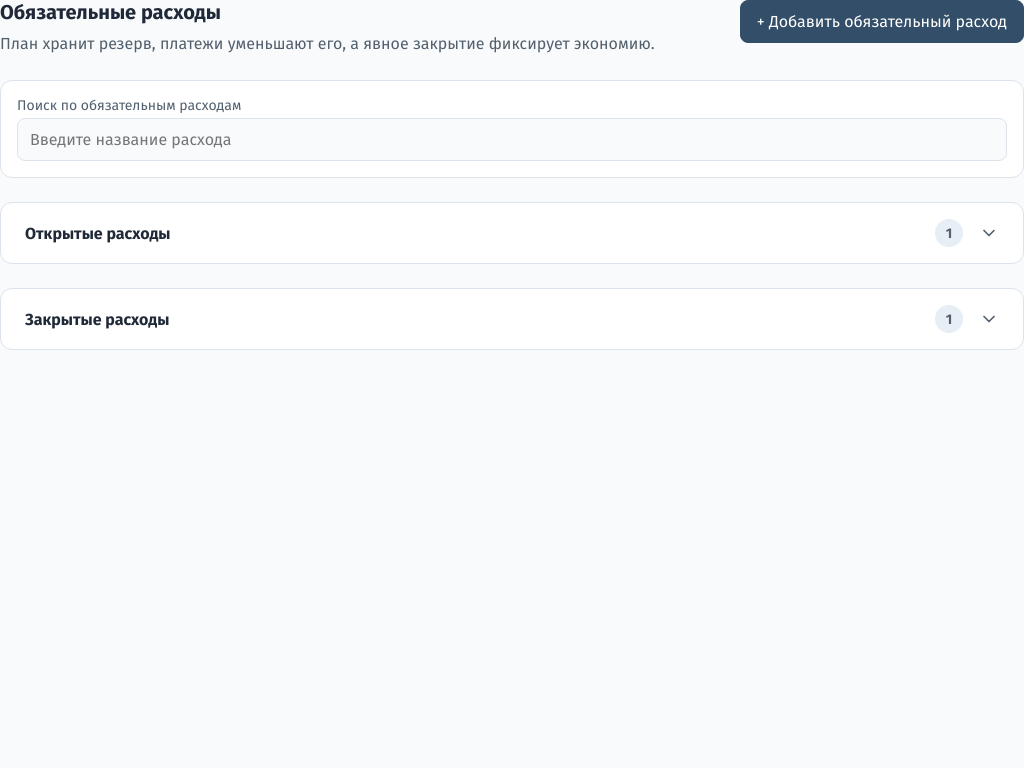
Scenario: ObligationsPage interface › separates closed expenses and opens creation in a modal
Expected: the number of elements with class "obligation-group" is 2, [0,202,1023,264]; [0,288,1023,350]
Expected: the icon with class "obligation-group__chevron" in the row of "Открытые расходы" is shown, [979,223,999,243]
Click the button "+ Добавить обязательный расход": (882, 22) [740,0,1023,43]
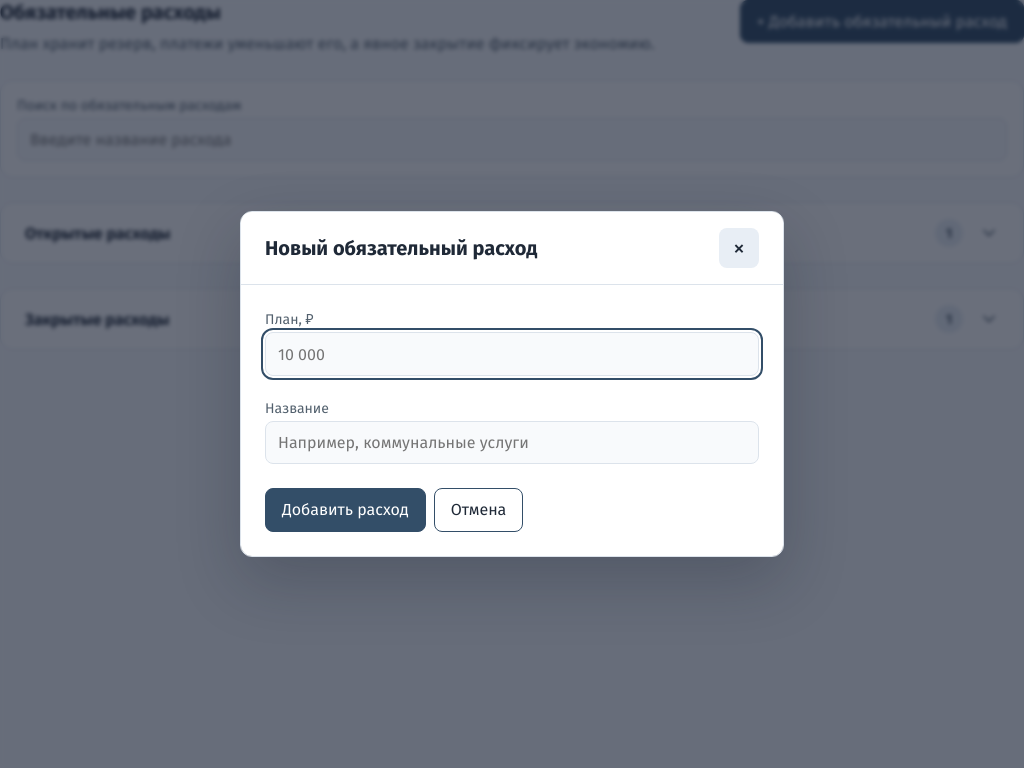
Expected: the dialog shows "Новый обязательный расход", [265,236,537,260]
